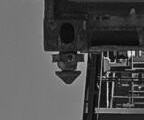twist_lock_2: (44, 47, 89, 88)
